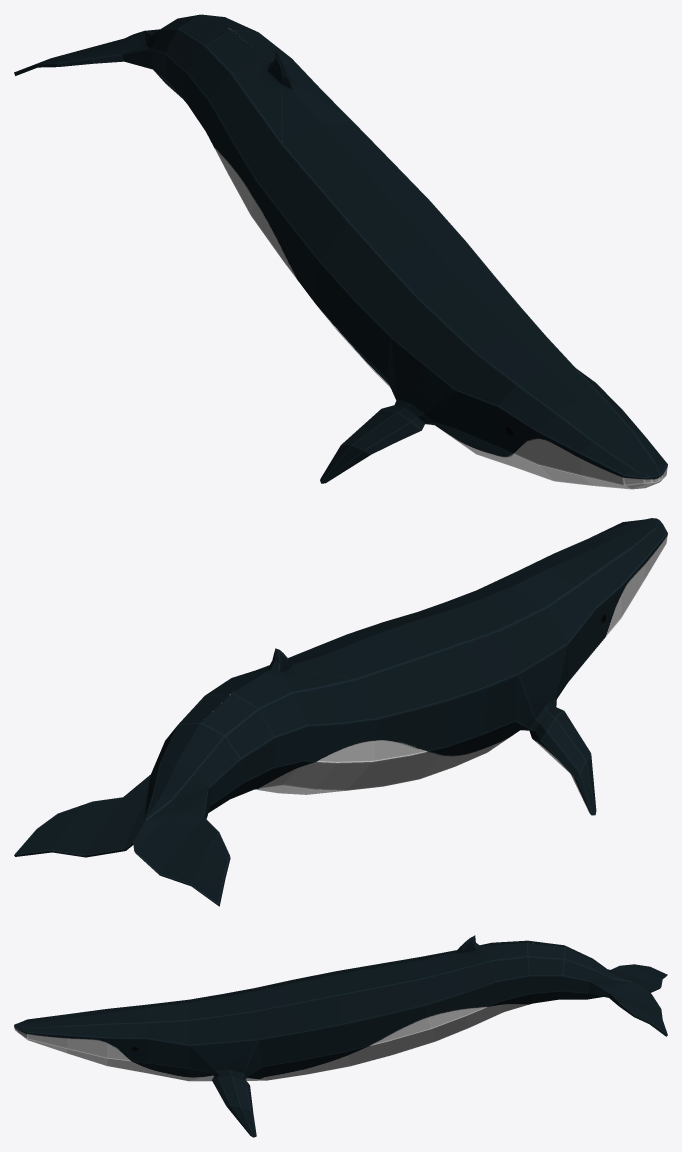
Rendered from whale3.glb.
The picture shows the model from 3 angles, top to bottom: view 1: azimuth 30°, elevation 25°; view 2: azimuth 150°, elevation 25°; view 3: azimuth 270°, elevation 25°; orthographic projection. The views are drawn at different scales.
Parts seen in each view (by area): view 1: Node; view 2: Node; view 3: Node.
Part boxes in pixels (box(x1,y1,x2,y2)): Node: box(14, 14, 667, 489); Node: box(14, 518, 667, 906); Node: box(14, 935, 667, 1137).
Size of the model in its own units: 9.45 by 8.8 by 32.22.
1 material, 1 textured.
